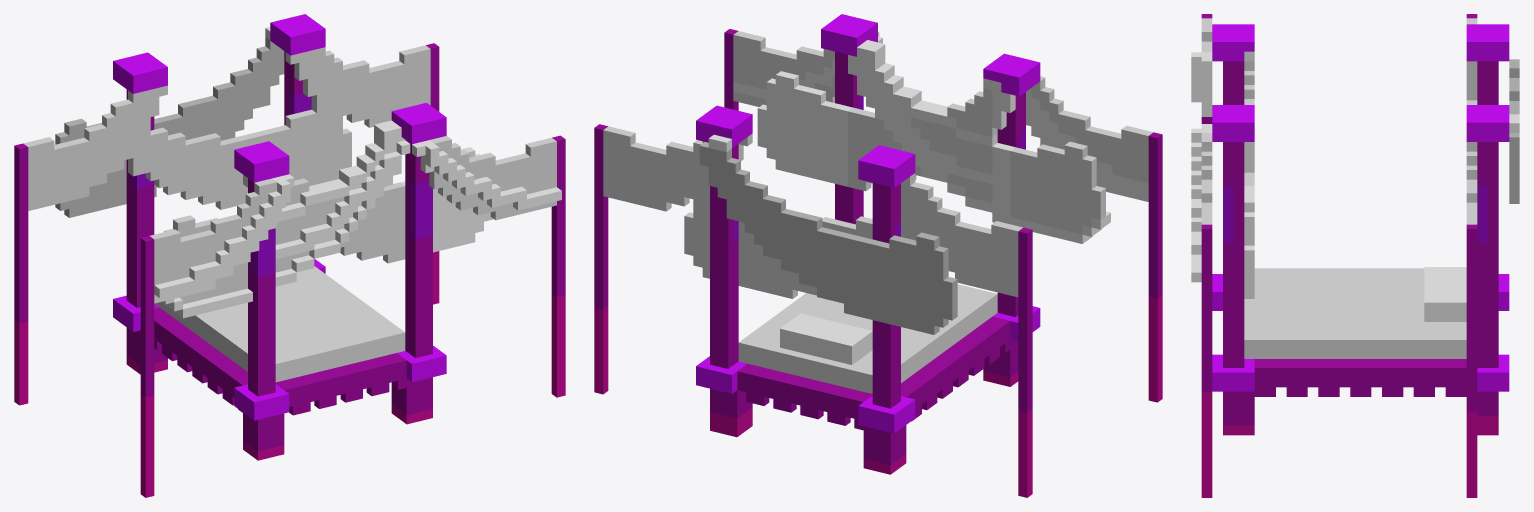
The model's file is stage_3_bed.obj.
3 views of the same model, side by side, from view 1: azimuth 30°, elevation 25°; view 2: azimuth 150°, elevation 25°; view 3: azimuth 270°, elevation 25° (orthographic). The views are drawn at different scales.
Visible parts, largest first — view 1: stage_3_bed; view 2: stage_3_bed; view 3: stage_3_bed.
Part boxes in pixels (x1,y1,x2,y2): stage_3_bed: [14, 14, 565, 497]; stage_3_bed: [594, 14, 1162, 497]; stage_3_bed: [1191, 14, 1519, 497].
Bounding box in the file's own units: 48 × 33 × 31.
1 material, 1 textured.
